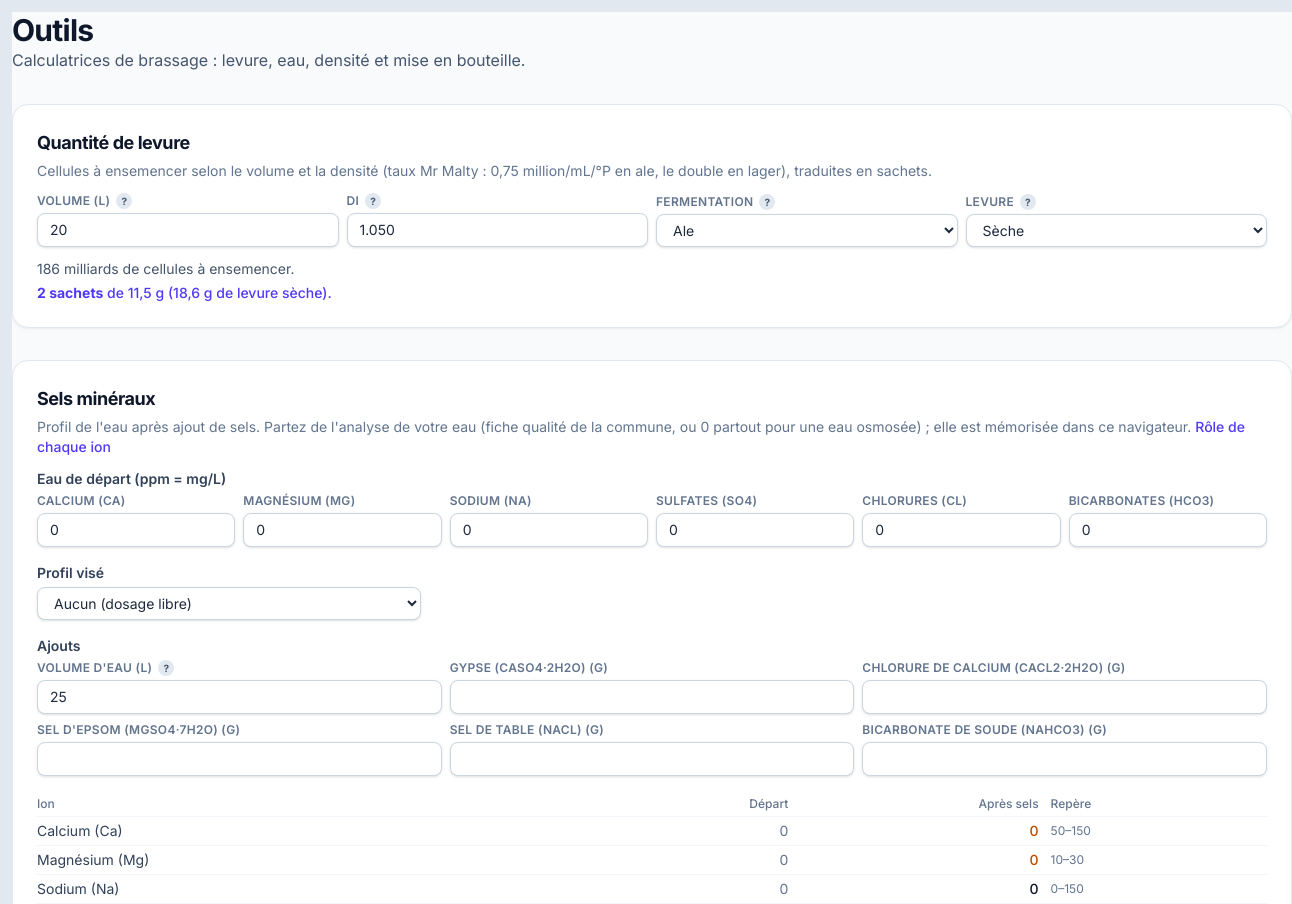
Test: Outils › sels : propose gypse et chlorure de calcium pour un profil visé, signale les bicarbonates en trop
This screenshot has width=1292, height=904.
Select "Houblonnée sèche — IPA, pale ale, bitter" in the dropdown named "Profil visé" below "Profil visé". click: (229, 604)
box: [37,587,421,620]
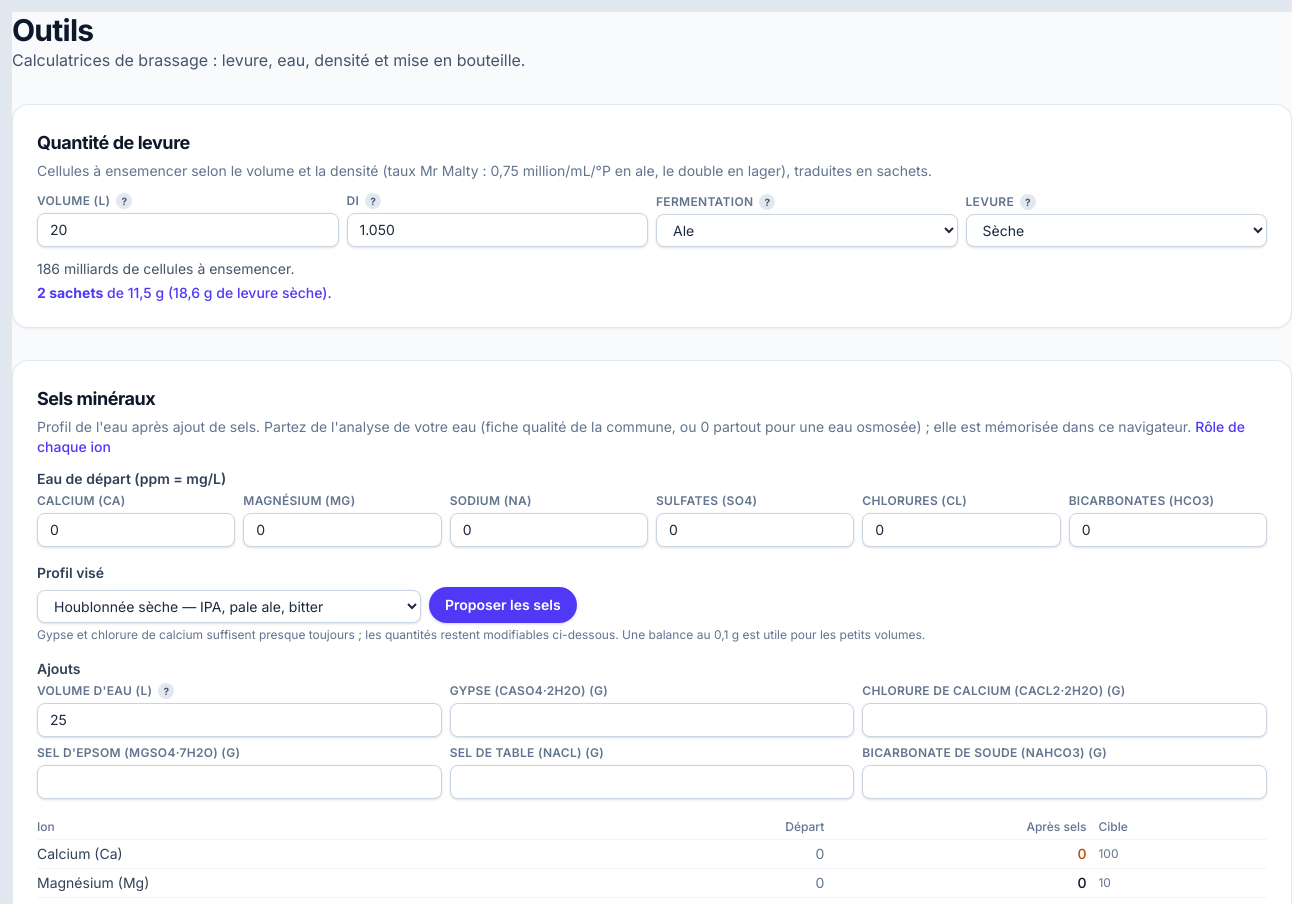
Click the button "Proposer les sels". click: (503, 605)
box: [429,587,577,623]
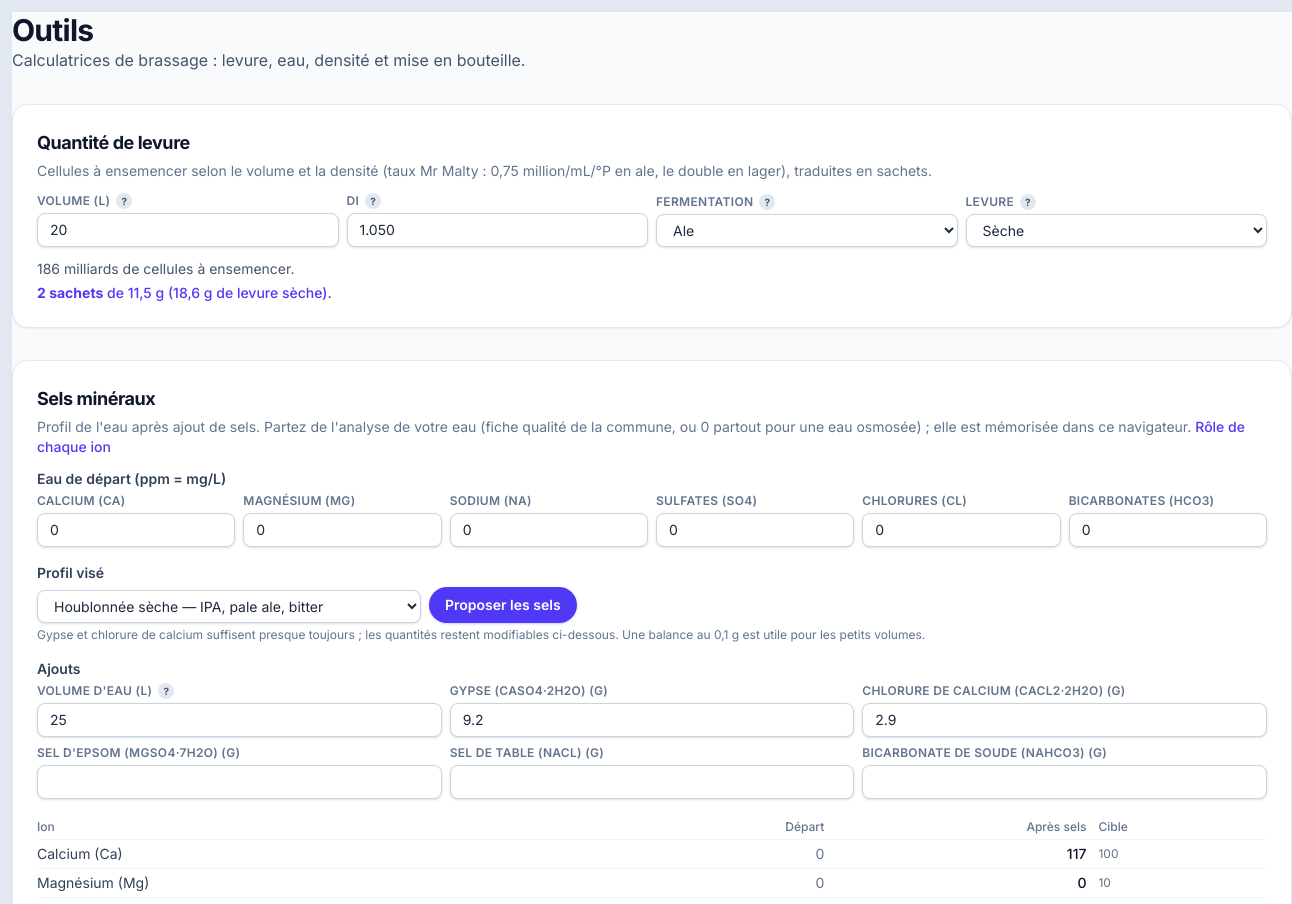
Expected: the number field labelled "Sel d'Epsom (MgSO4·7H2O) (g)" is empty, [37,765,442,799]
Replace the text in the number field labelled "Bicarbonates (HCO3)" with "300". click: (1168, 530)
box: [1069,513,1267,547]
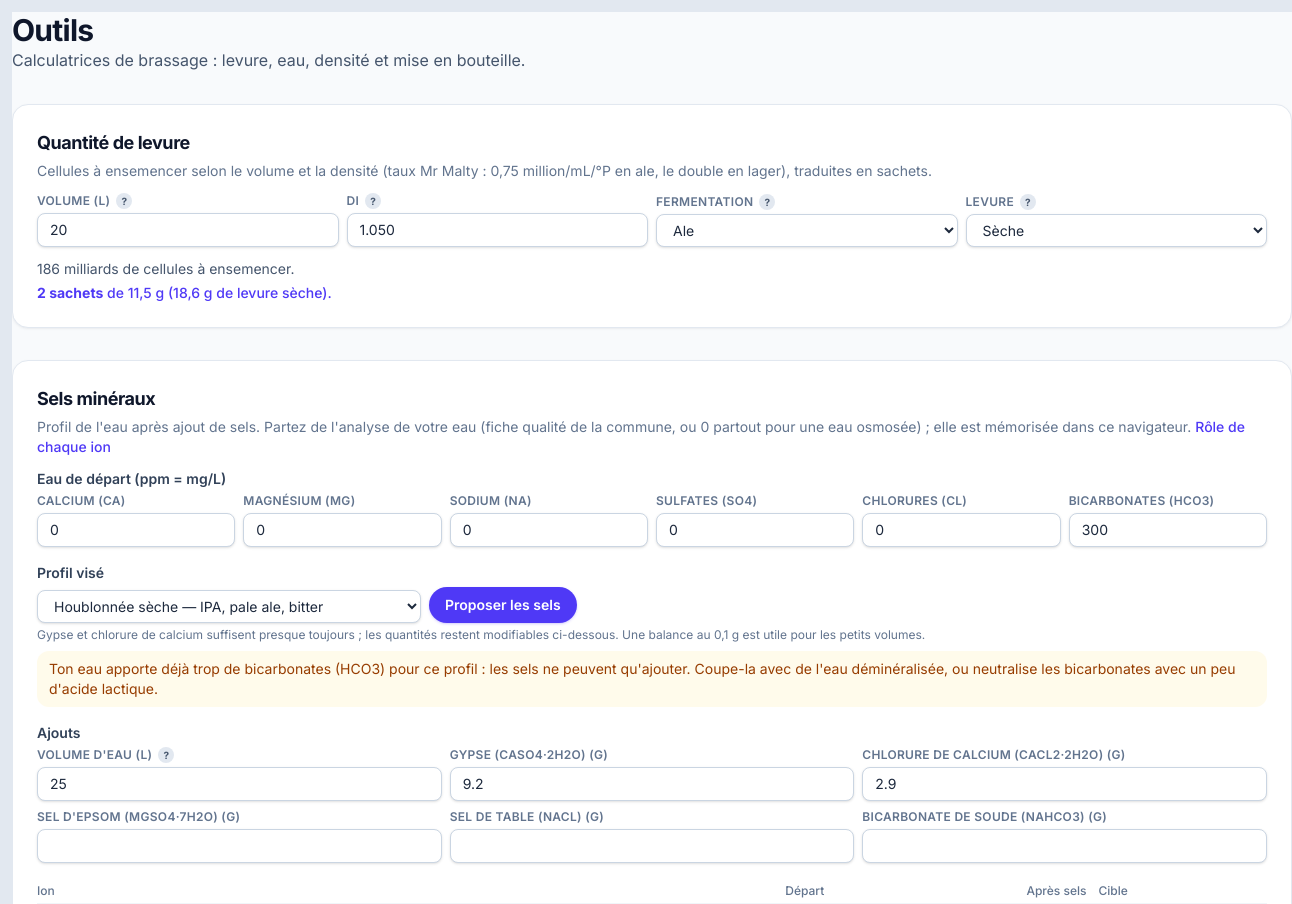
Expected: the text "neutralise les bicarbonates avec un peu d'acide lactique" is shown, [49,660,1236,697]
